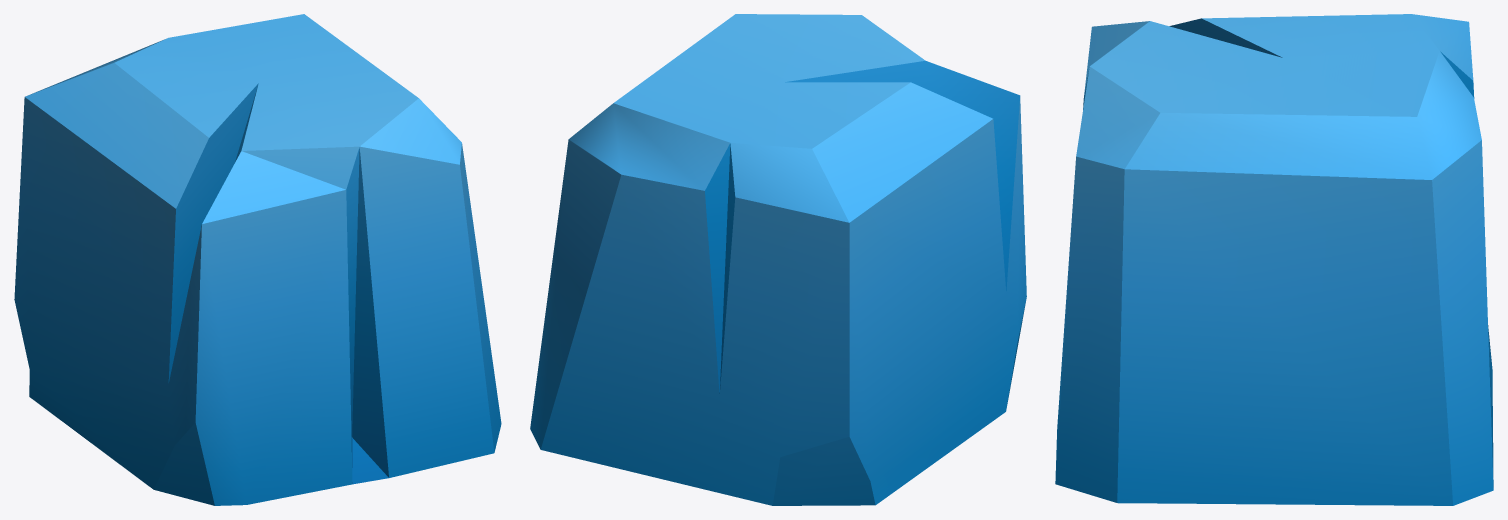
Rendered from rock_blue.fbx.
3 views of the same model, side by side, from view 1: azimuth 30°, elevation 25°; view 2: azimuth 150°, elevation 25°; view 3: azimuth 270°, elevation 25° (orthographic). The views are drawn at different scales.
Visible parts, largest first — view 1: rock_blue; view 2: rock_blue; view 3: rock_blue.
Part boxes in pixels (x1,y1,x2,y2): rock_blue: (14,14,501,505); rock_blue: (530,14,1026,505); rock_blue: (1055,14,1493,505).
Size of the model in its own units: 16.92 by 15.83 by 17.61.
